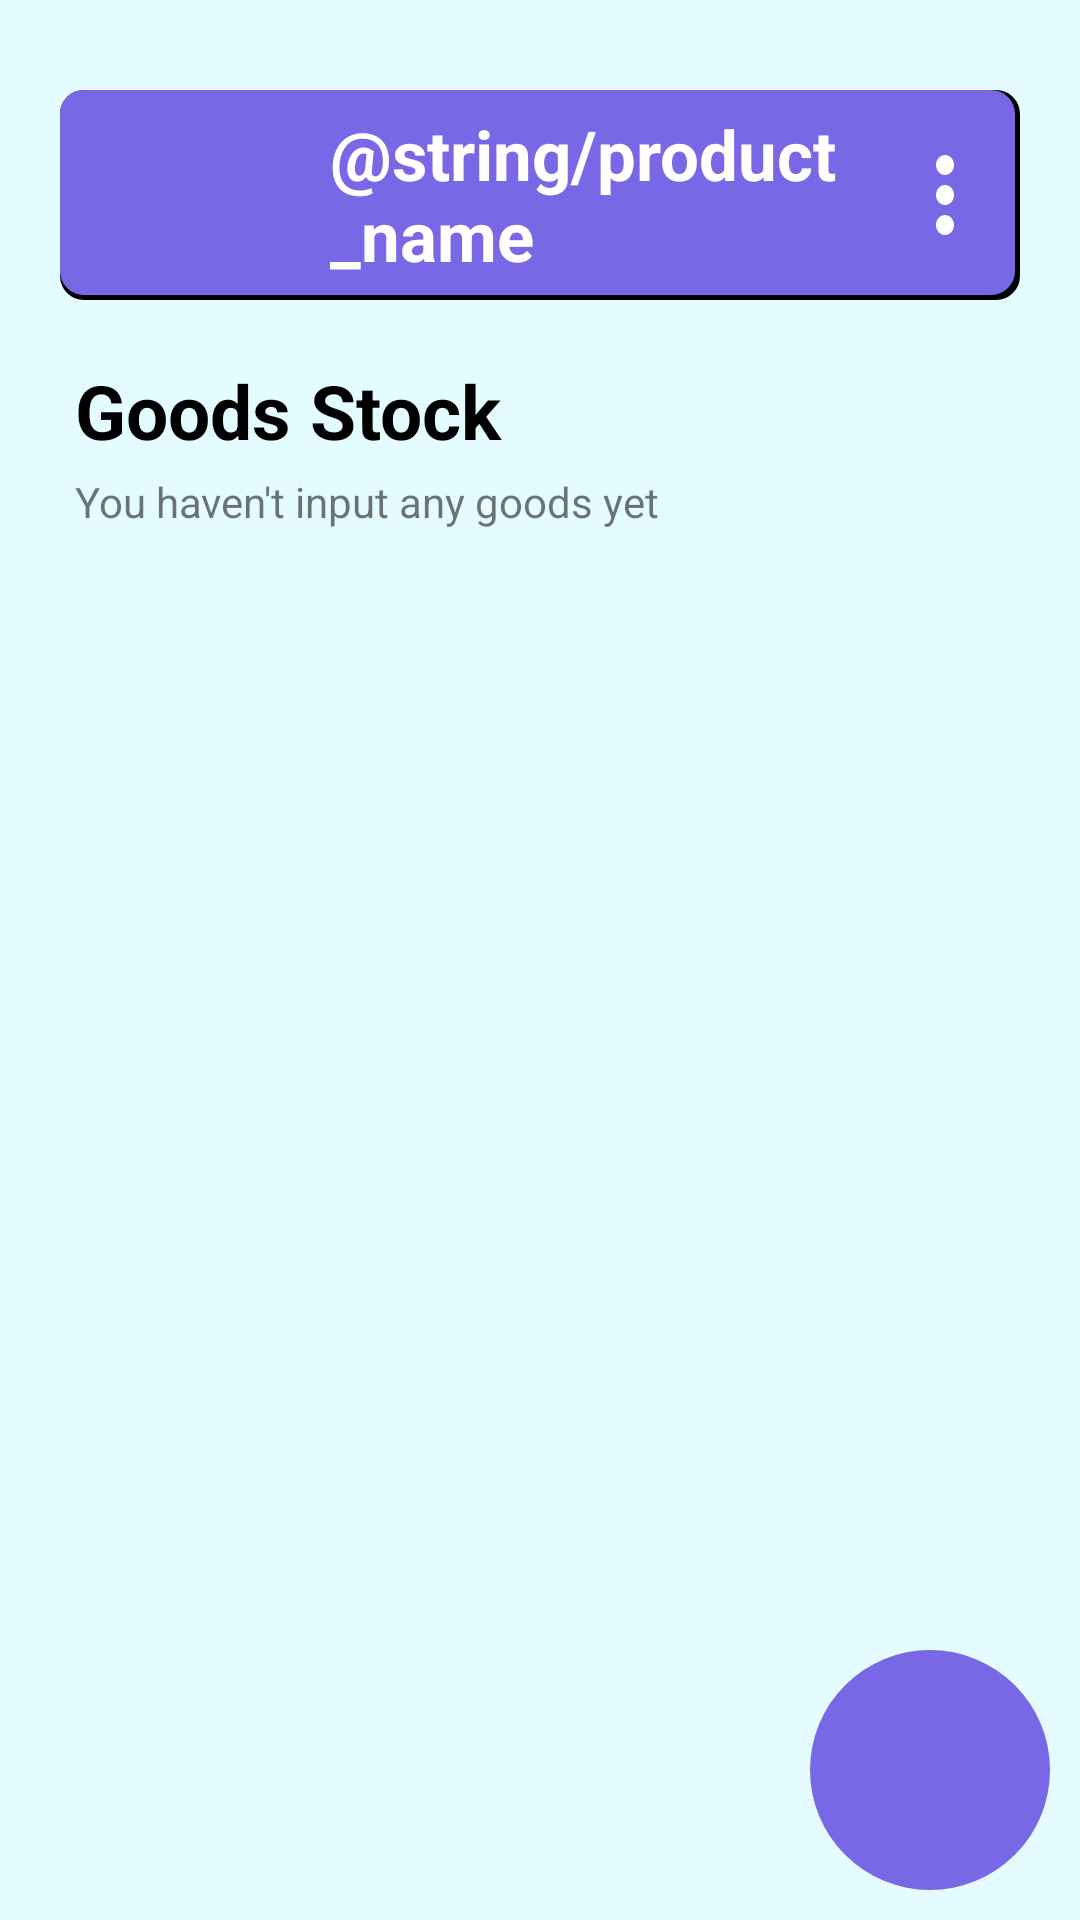

Locate icon controls on the screen. Image size 1080px x 1920px, boxes as (x1, y1, x2, y2).
menu: (936, 155, 954, 235)
